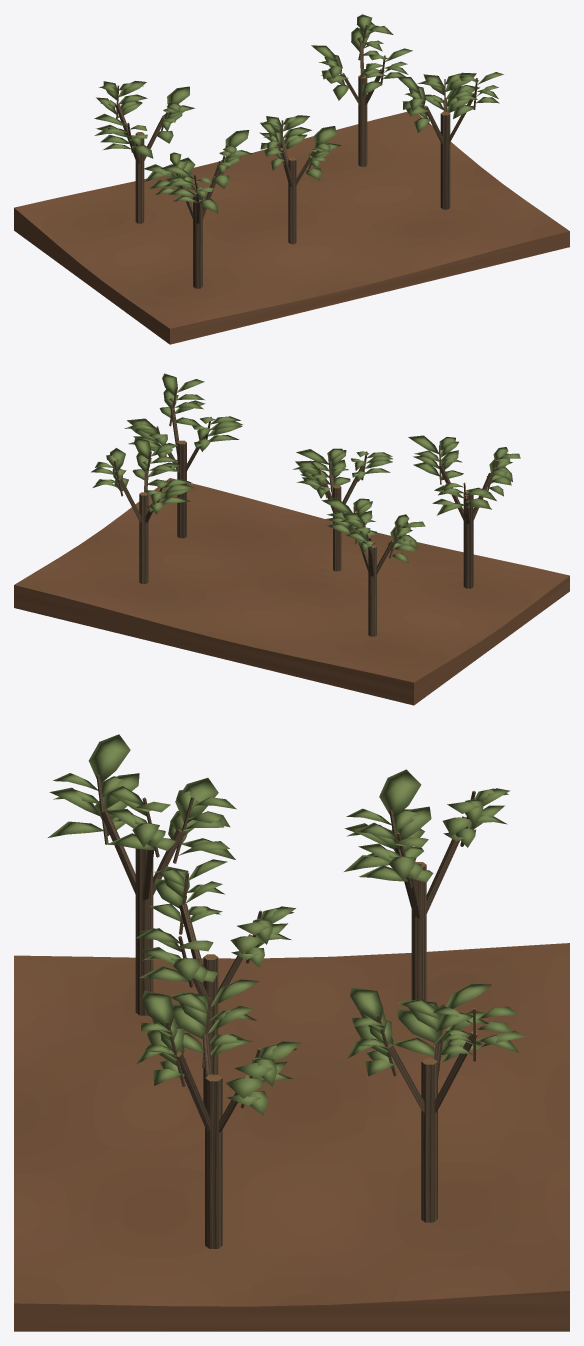
Rendered from kuala-lumpur.glb.
3 views of the same model, one above another, from view 1: azimuth 30°, elevation 25°; view 2: azimuth 150°, elevation 25°; view 3: azimuth 270°, elevation 25° (orthographic). The views are drawn at different scales.
Parts seen in each view (by area): view 1: kuala-lumpur; view 2: kuala-lumpur; view 3: kuala-lumpur.
Boxes of the visible parts, x1,y1,x2,y2 form: kuala-lumpur: [14, 14, 569, 344]; kuala-lumpur: [14, 373, 569, 705]; kuala-lumpur: [14, 734, 569, 1331].
Bounding box in the file's own units: 7.6 × 2.84 × 5.13.
1 material, 1 textured.
